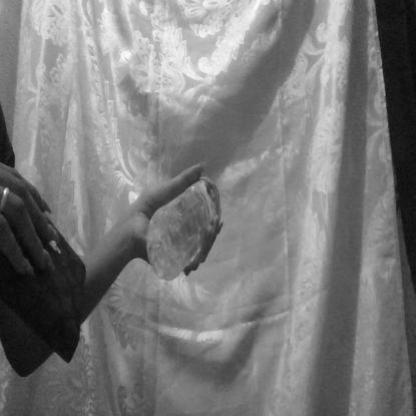Plastic Bottle: (128, 137, 247, 325)
